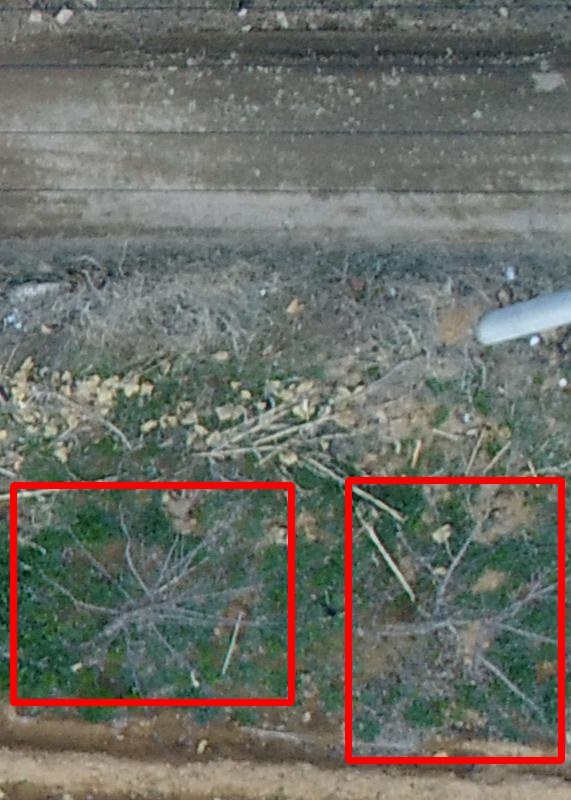apple: (13, 485, 291, 702), (348, 480, 561, 760)
